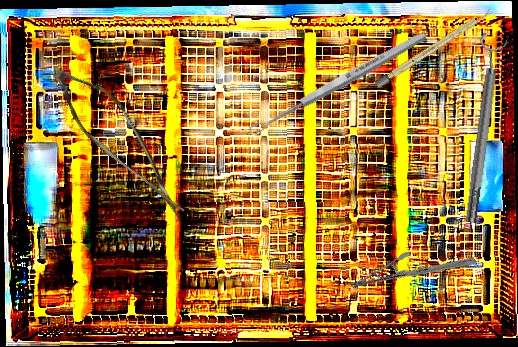Fixation Ring: (453, 32, 512, 225)
Micro Scissor: (31, 59, 217, 222)
Needle Holder: (349, 210, 478, 336)
Scalpel Handle: (373, 7, 494, 89)
Surgical Spoon: (247, 29, 428, 138)
